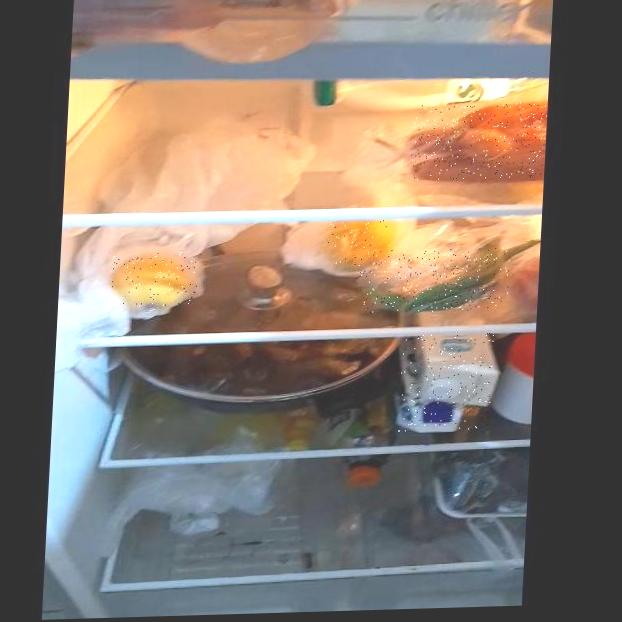carrot: (410, 102, 548, 180)
green chilies: (358, 247, 511, 314)
lemon: (111, 252, 201, 307), (326, 219, 401, 268)
milk: (397, 333, 494, 433)
